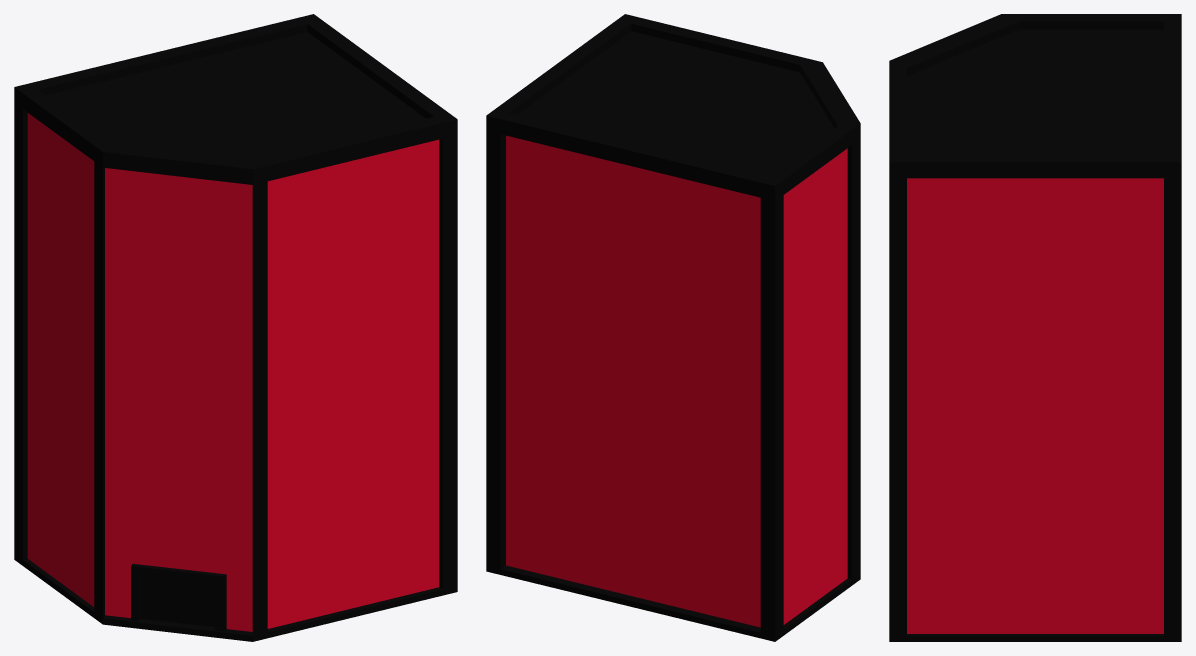
3 views of the same model, side by side, from view 1: azimuth 30°, elevation 25°; view 2: azimuth 150°, elevation 25°; view 3: azimuth 270°, elevation 25° (orthographic). The views are drawn at different scales.
Visible parts, largest first — view 1: Building5; view 2: Building5; view 3: Building5.
Part boxes in pixels (x1=…): Building5: x1=14, y1=14, x2=457, y2=641; Building5: x1=486, y1=14, x2=860, y2=641; Building5: x1=889, y1=14, x2=1181, y2=641.
Bounding box in the file's own units: 4008 × 6042 × 3337.
